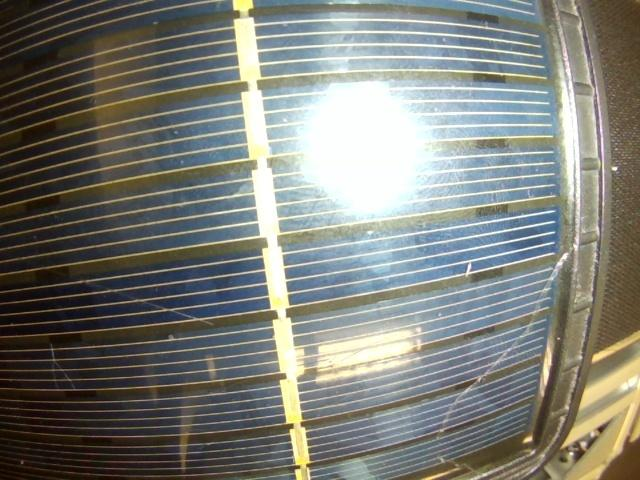crack: (440, 254, 566, 432), (81, 282, 211, 324), (50, 343, 59, 388), (60, 368, 75, 389), (466, 263, 471, 276)
